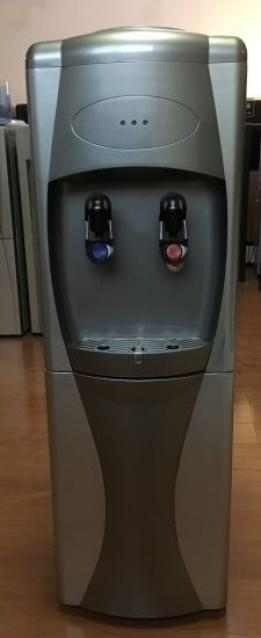Dispenser: (23, 22, 248, 618)
